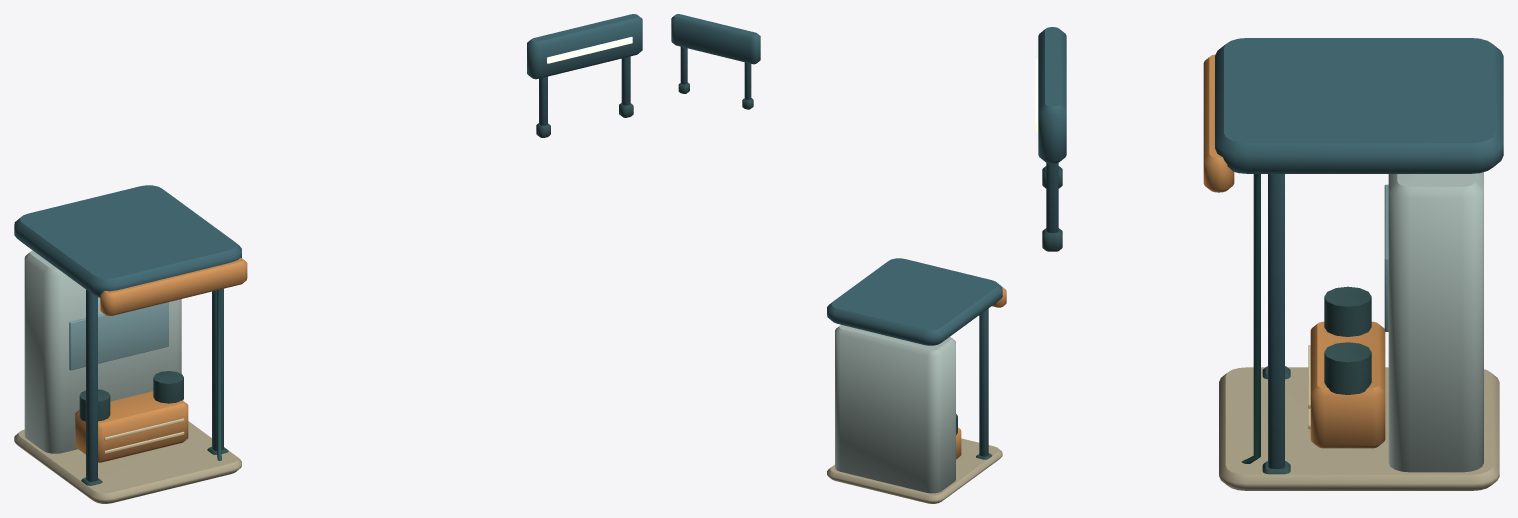
The model's file is harbor_truck_service_4.glb.
3 renders of one model, left to right at view 1: azimuth 30°, elevation 25°; view 2: azimuth 150°, elevation 25°; view 3: azimuth 270°, elevation 25°, orthographic. The views are drawn at different scales.
Parts seen in each view (by area): view 1: HarborTruckService4; view 2: HarborTruckService4; view 3: HarborTruckService4.
Part boxes in pixels (x1=…): HarborTruckService4: x1=14, y1=14, x2=642, y2=503; HarborTruckService4: x1=671, y1=14, x2=1006, y2=503; HarborTruckService4: x1=1035, y1=27, x2=1503, y2=490.
Bounding box in the file's own units: 7.69 × 6.23 × 4.14.
